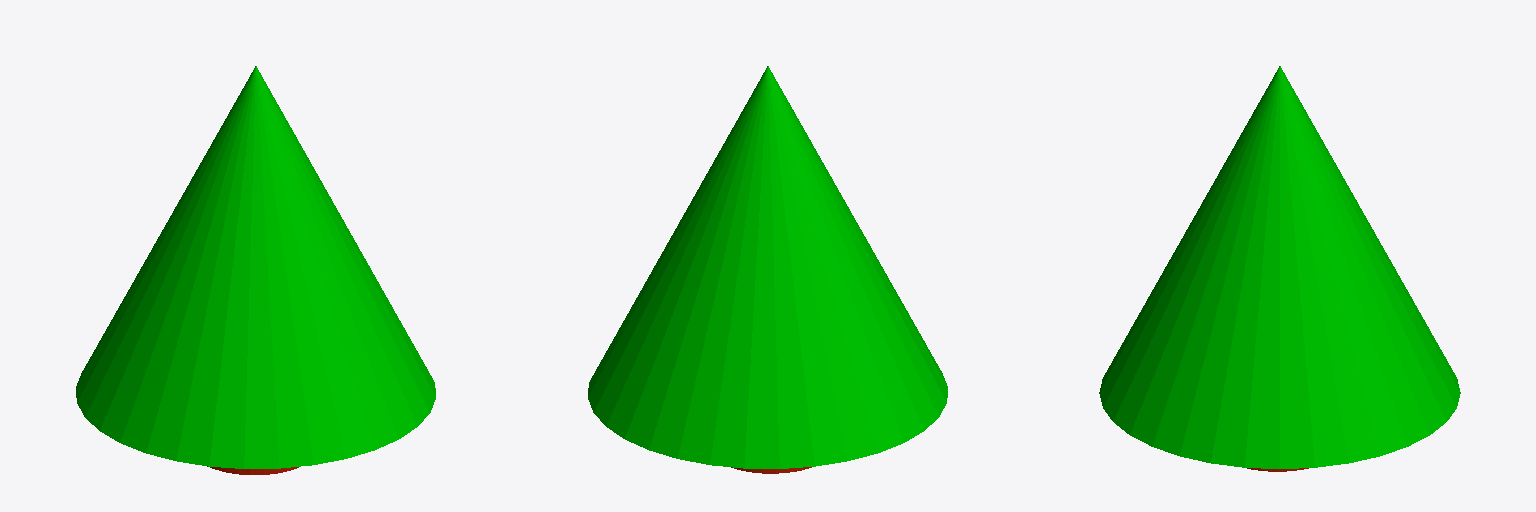
File: tree.obj
3 renders of one model, left to right at view 1: azimuth 30°, elevation 25°; view 2: azimuth 150°, elevation 25°; view 3: azimuth 270°, elevation 25°, orthographic.
Visible parts, largest first — view 1: Tree; view 2: Tree; view 3: Tree.
Boxes of the visible parts, x1=… form: Tree: x1=76, y1=66, x2=435, y2=474; Tree: x1=588, y1=66, x2=947, y2=473; Tree: x1=1099, y1=66, x2=1460, y2=471.
Bounding box in the file's own units: 0.8143 × 0.9475 × 0.8143.